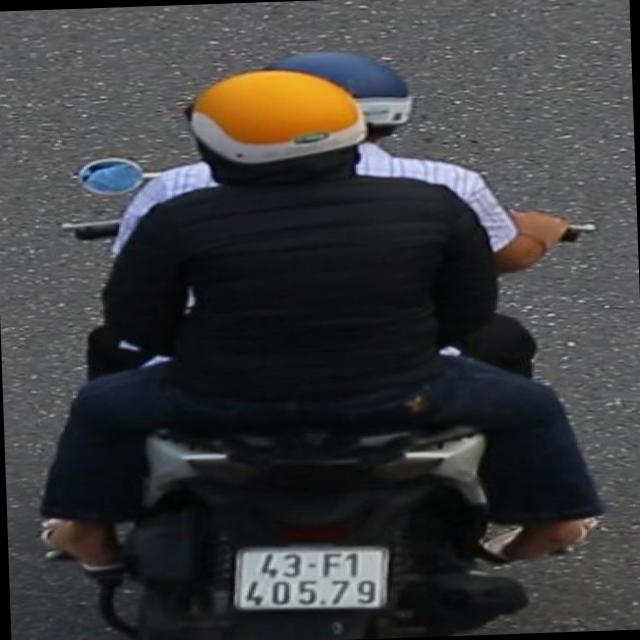LP: (223, 534, 398, 618)
helmet: (177, 66, 370, 194)
